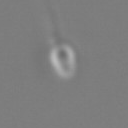normal: (44, 1, 63, 44)
